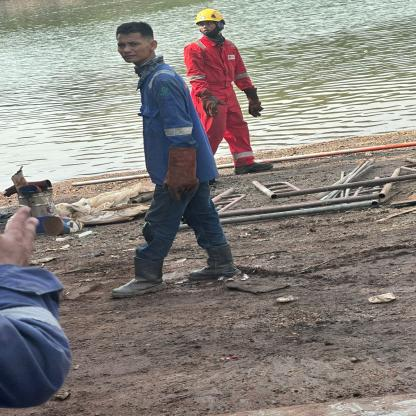bota: (109, 257, 168, 298), (184, 245, 245, 278), (230, 159, 275, 175)
